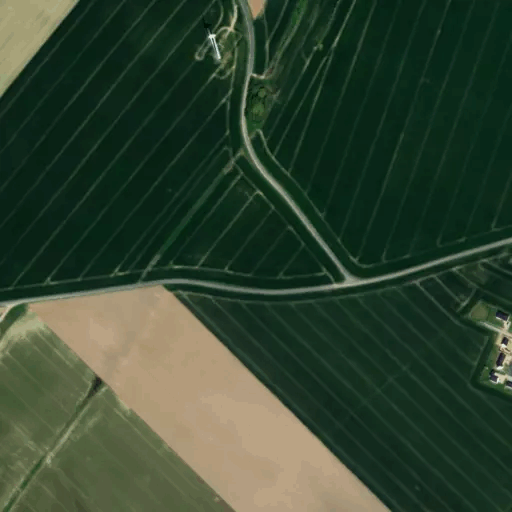wt: (195, 11, 231, 79)
